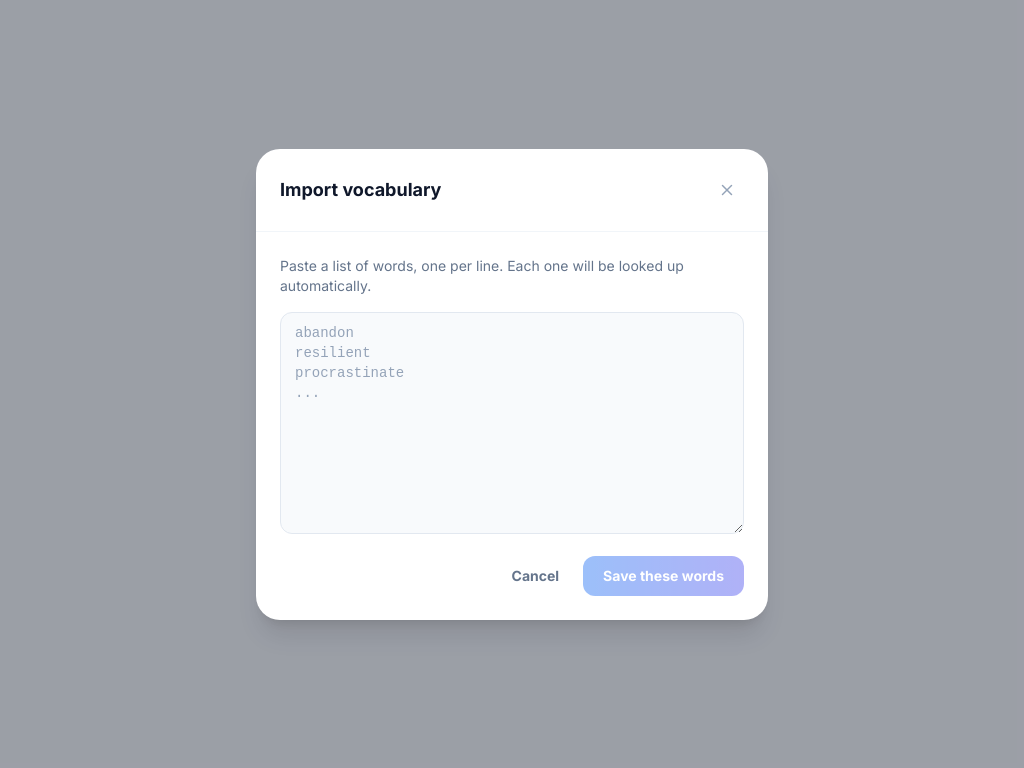
ImportPersonalWordsModal › a VOCAB_WORD_LIMIT_REACHED 403 on submit shows an upgrade nudge, staying on the review step
The width and height of the screenshot is (1024, 768).
In the text box with placeholder "abandon resilient procrastinate ...": (512, 422) [280, 312, 744, 534], type "apple"
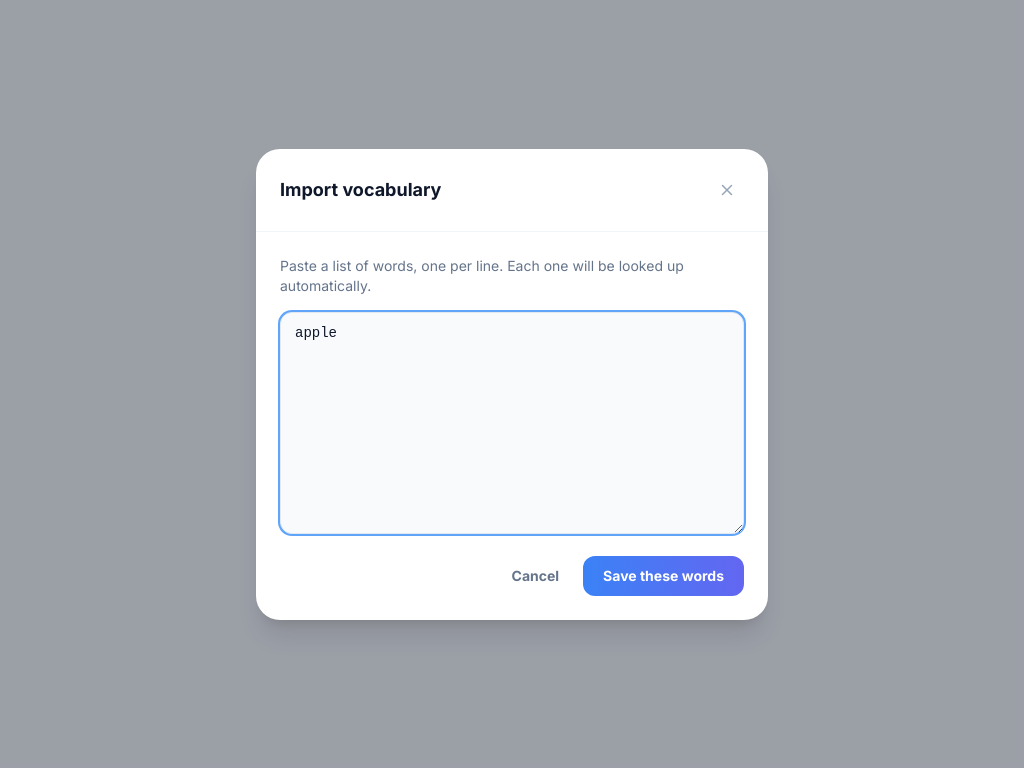
Click the button "Save these words": (664, 576) [583, 556, 744, 596]
Wait 2000 ms
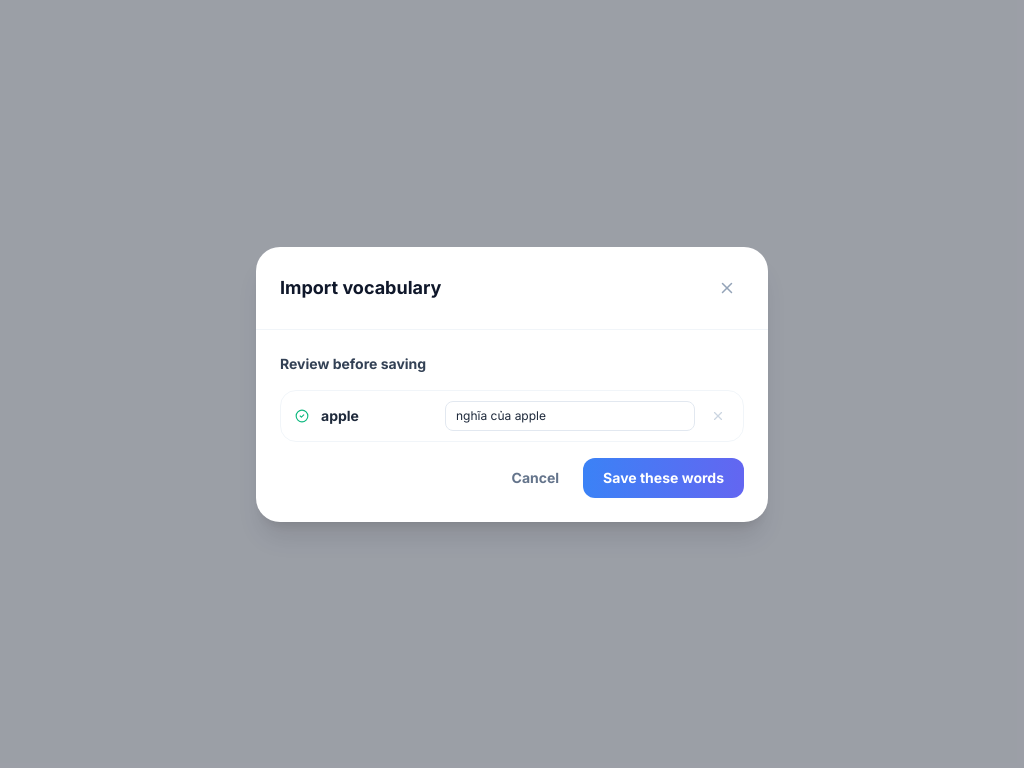
expect the text "Review before saving" is shown: met, box [280, 354, 426, 372]
Click the button "Save these words": (664, 478) [583, 458, 744, 498]
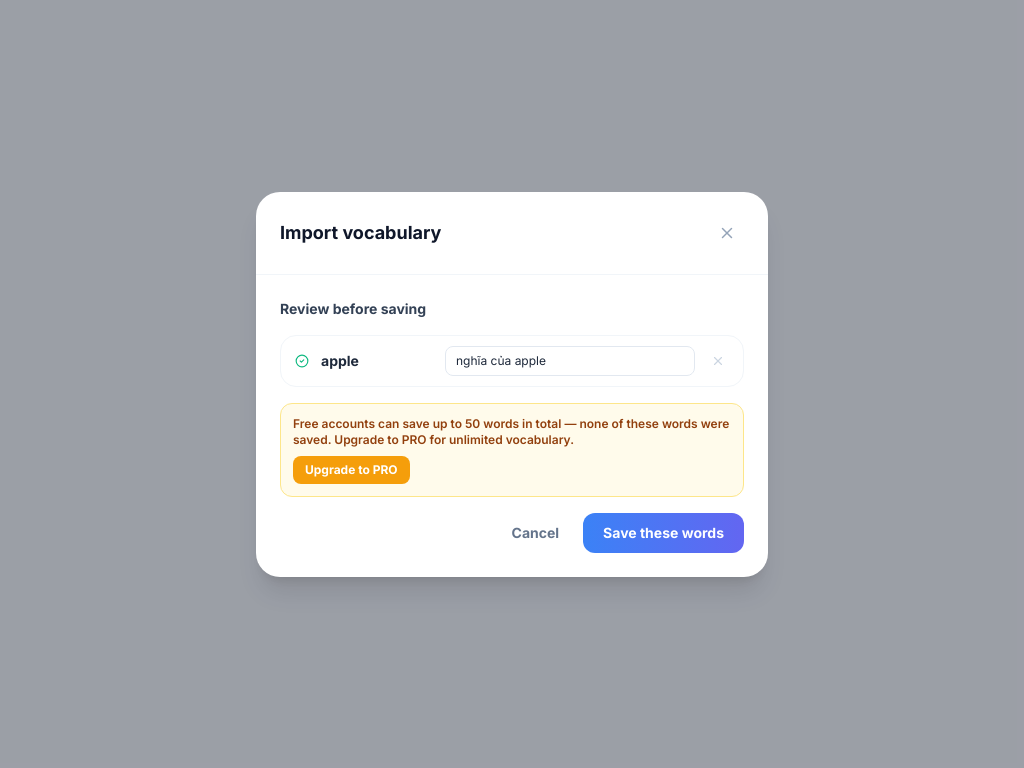
expect the text "Review before saving" is shown: met, box [280, 300, 426, 316]
expect the text "Free accounts can save up to 50 words" is shown: met, box [293, 416, 729, 446]
expect the button "Upgrade to PRO" is shown: met, box [293, 456, 410, 484]
